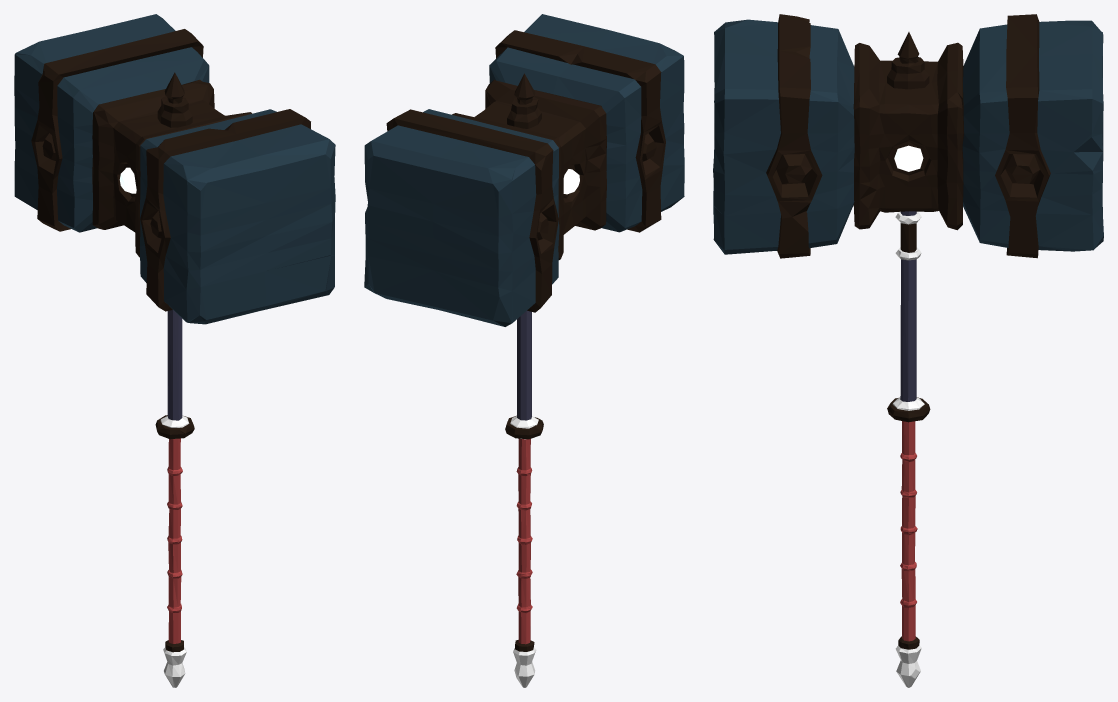
The model's file is SFFA_Weapon_Hammer_Gold_004.fbx.
The picture shows the model from 3 angles, left to right: view 1: azimuth 30°, elevation 25°; view 2: azimuth 150°, elevation 25°; view 3: azimuth 270°, elevation 25°; orthographic projection. The views are drawn at different scales.
Parts seen in each view (by area): view 1: SFFA_Weapon_Hammer_Gold_004; view 2: SFFA_Weapon_Hammer_Gold_004; view 3: SFFA_Weapon_Hammer_Gold_004.
Part boxes in pixels (x1,y1,x2,y2): SFFA_Weapon_Hammer_Gold_004: (14, 14, 335, 687); SFFA_Weapon_Hammer_Gold_004: (364, 14, 684, 687); SFFA_Weapon_Hammer_Gold_004: (713, 14, 1103, 687).
Bounding box in the file's own units: 37.35 × 142 × 76.52.
